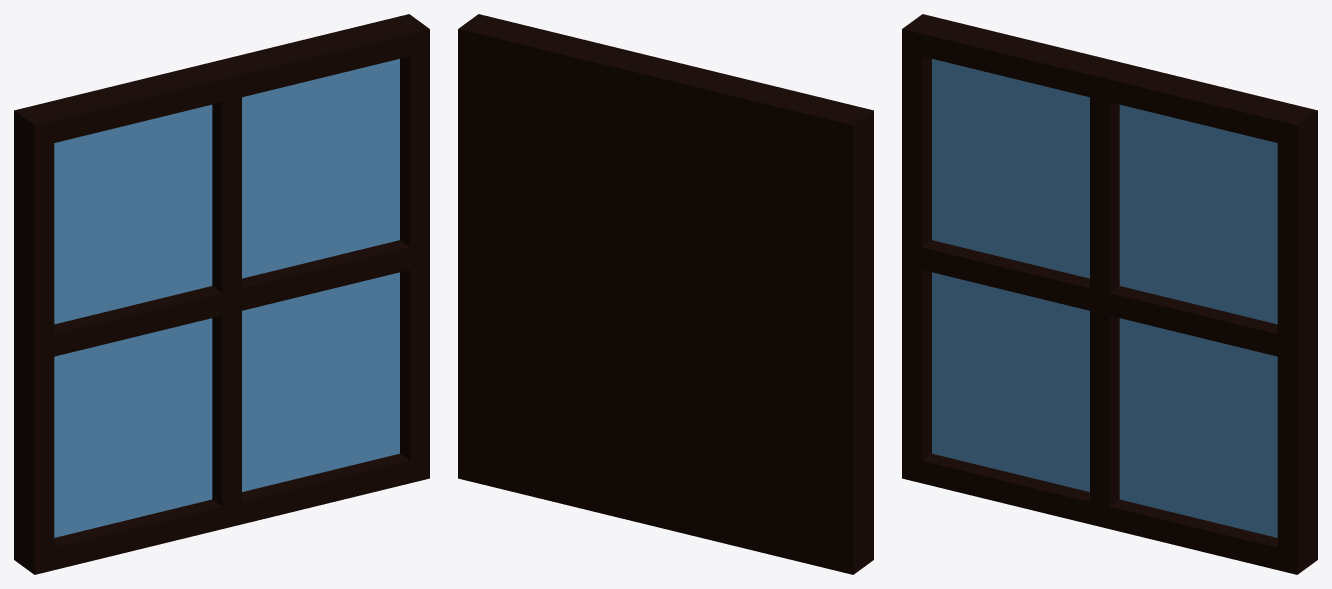
Rendered from Window_House.fbx.
3 views of the same model, side by side, from view 1: azimuth 30°, elevation 25°; view 2: azimuth 150°, elevation 25°; view 3: azimuth 330°, elevation 25° (orthographic).
Parts seen in each view (by area): view 1: Mesh (4); view 2: Mesh (4); view 3: Mesh (4).
Part boxes in pixels (x1,y1,x2,y2): Mesh (4): (14,14,429,574); Mesh (4): (458,14,873,574); Mesh (4): (902,14,1317,574).
Bounding box in the file's own units: 144 × 157 × 12.97.
